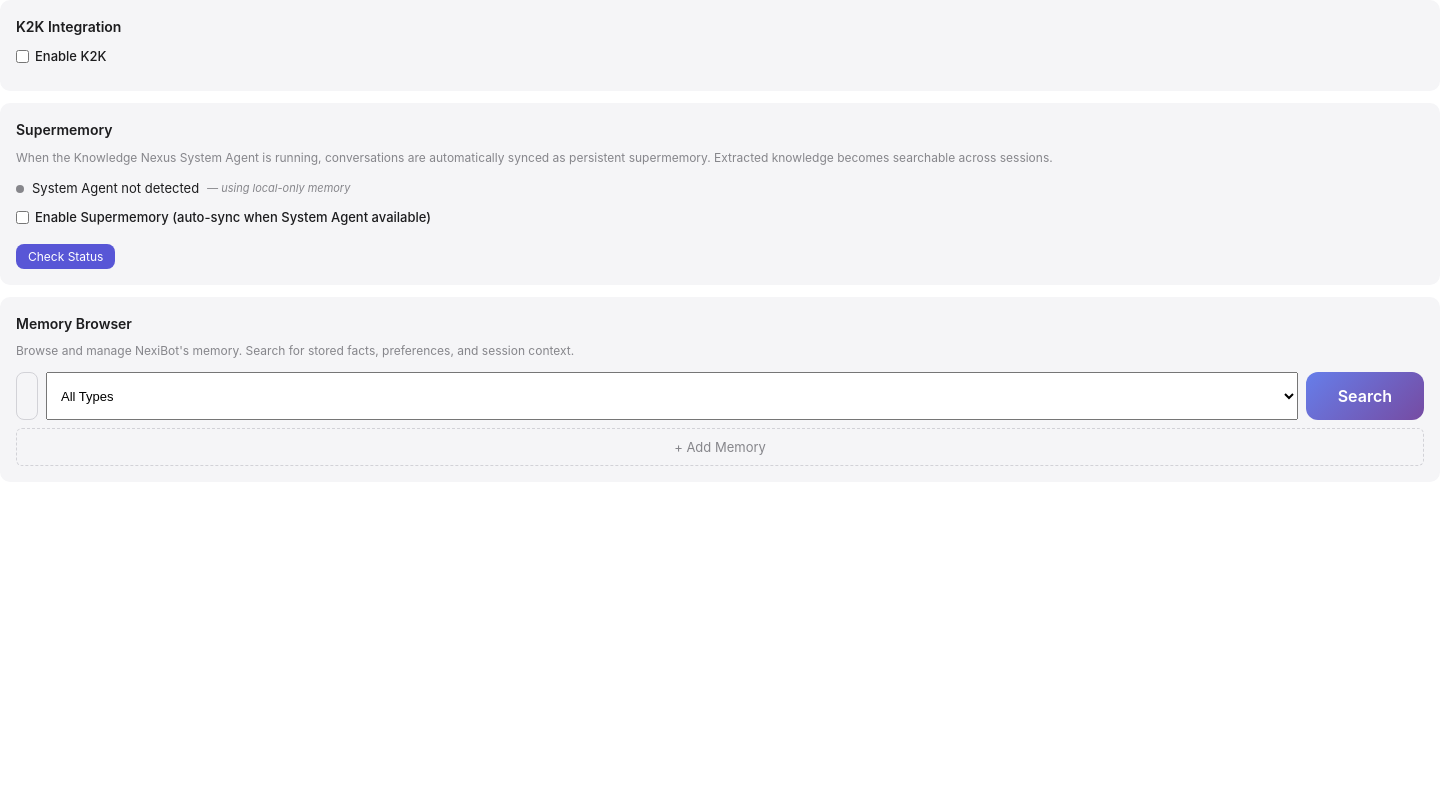
Test case: Add memory form › shows add form when "+ Add Memory" button is clicked
Click the button "+ Add Memory" at (720, 447), box [16,428,1424,466]
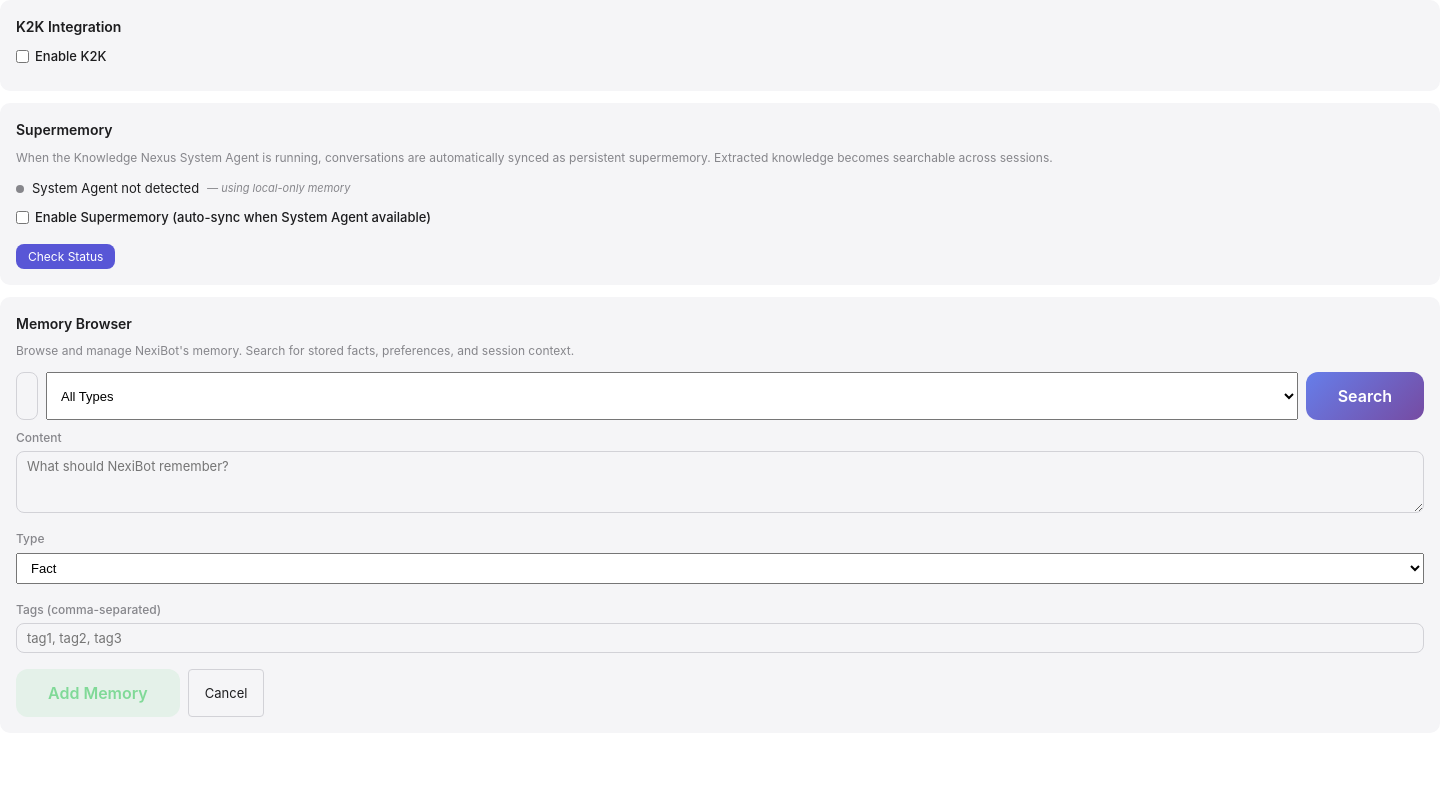
expect the text box with placeholder "What should NexiBot remember?" is shown: met, box [16,451,1424,513]
